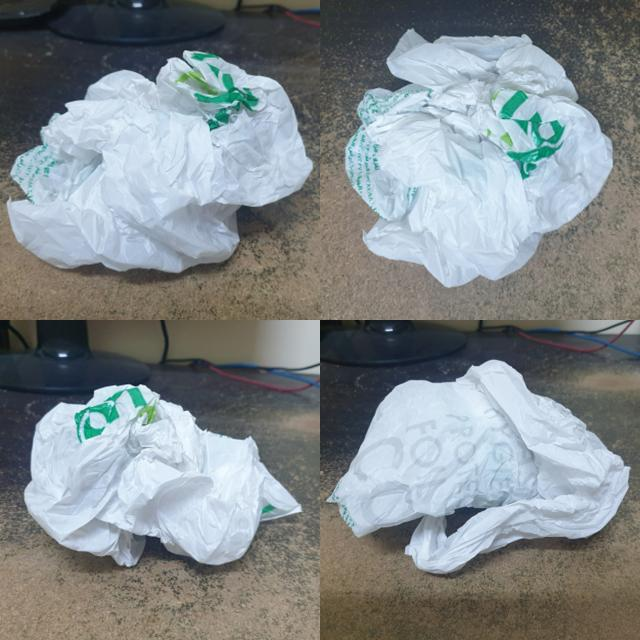Single-layer Plastic: (346, 30, 612, 286), (8, 51, 312, 272), (328, 360, 629, 574), (25, 385, 301, 566)
